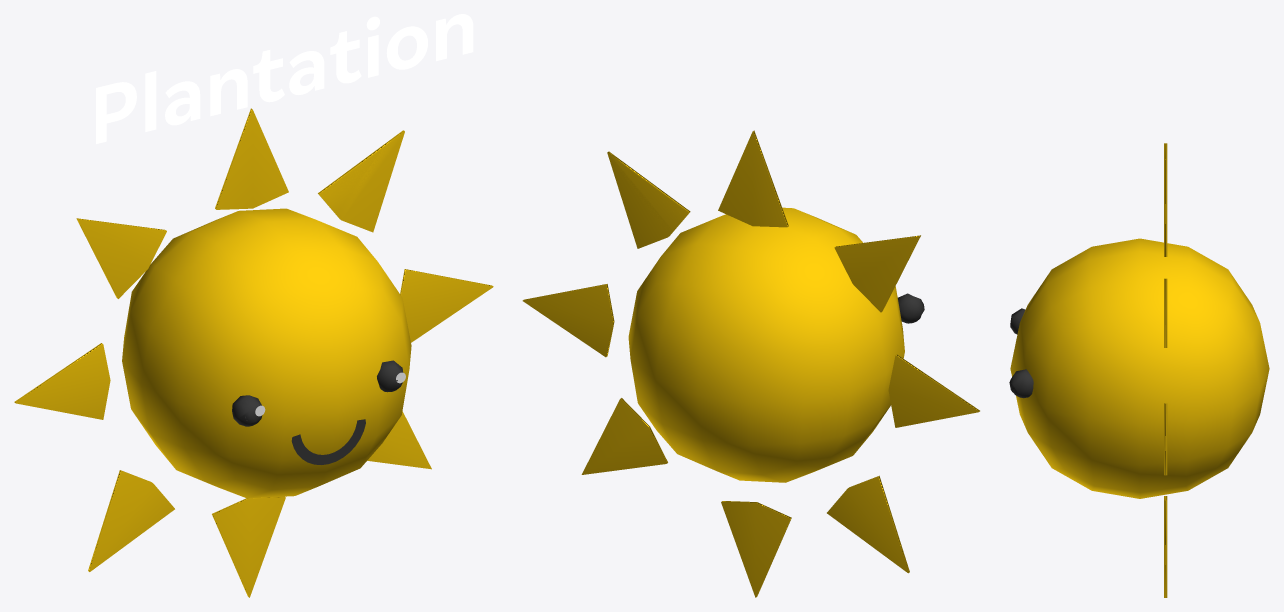
File: sunny_plantation2.glb
The picture shows the model from 3 angles, left to right: view 1: azimuth 30°, elevation 25°; view 2: azimuth 150°, elevation 25°; view 3: azimuth 270°, elevation 25°; orthographic projection. The views are drawn at different scales.
Visible parts, largest first — view 1: PM3D_Sphere3D1_3, Plantation, PM3D_Sphere3D5; view 2: PM3D_Sphere3D1_3, PM3D_Sphere3D5; view 3: PM3D_Sphere3D1_3, PM3D_Sphere3D5.
Part boxes in pixels (box(x1,y1,x2,y2)): PM3D_Sphere3D1_3: box(14, 108, 493, 597); Plantation: box(96, 14, 473, 143); PM3D_Sphere3D5: box(232, 360, 405, 464); PM3D_Sphere3D1_3: box(522, 130, 979, 597); PM3D_Sphere3D5: box(898, 293, 924, 323); PM3D_Sphere3D1_3: box(1010, 143, 1269, 597); PM3D_Sphere3D5: box(1009, 308, 1033, 398).
Bounding box in the file's own units: 6.47 × 7.35 × 3.41.
Materials: 3 (3 with a texture image).
